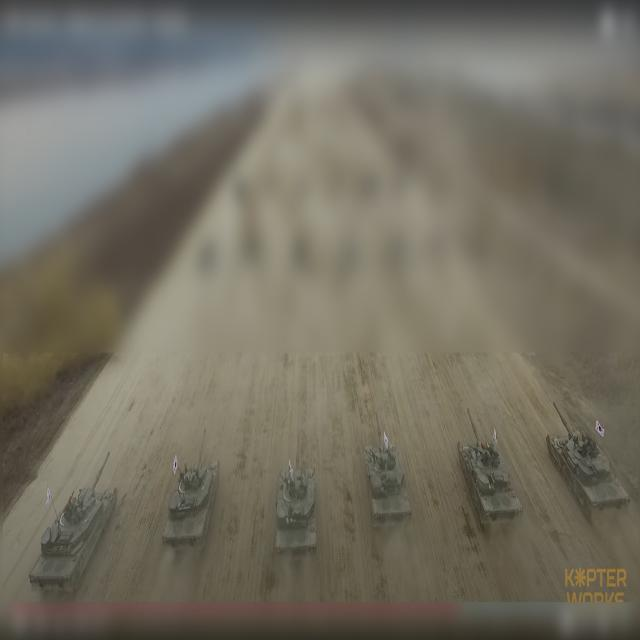tank: (28, 450, 118, 594), (546, 398, 631, 517), (459, 404, 524, 536), (162, 426, 221, 557), (275, 429, 320, 559), (364, 406, 413, 520)
